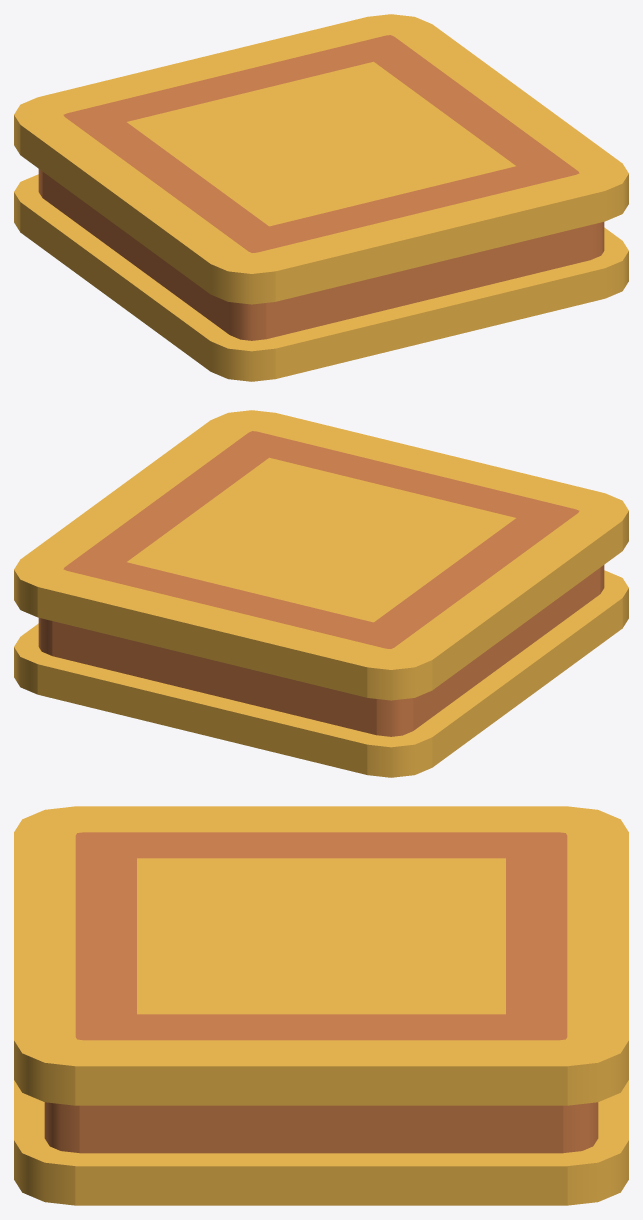
Rendered from blockMoving.dae.
3 renders of one model, top to bottom at view 1: azimuth 30°, elevation 25°; view 2: azimuth 150°, elevation 25°; view 3: azimuth 270°, elevation 25°, orthographic. The views are drawn at different scales.
Visible parts, largest first — view 1: blockMoving; view 2: blockMoving; view 3: blockMoving.
Part boxes in pixels (x1=…): blockMoving: x1=14, y1=14, x2=628, y2=381; blockMoving: x1=14, y1=410, x2=628, y2=777; blockMoving: x1=14, y1=806, x2=628, y2=1205.
Bounding box in the file's own units: 1 × 0.25 × 1.
